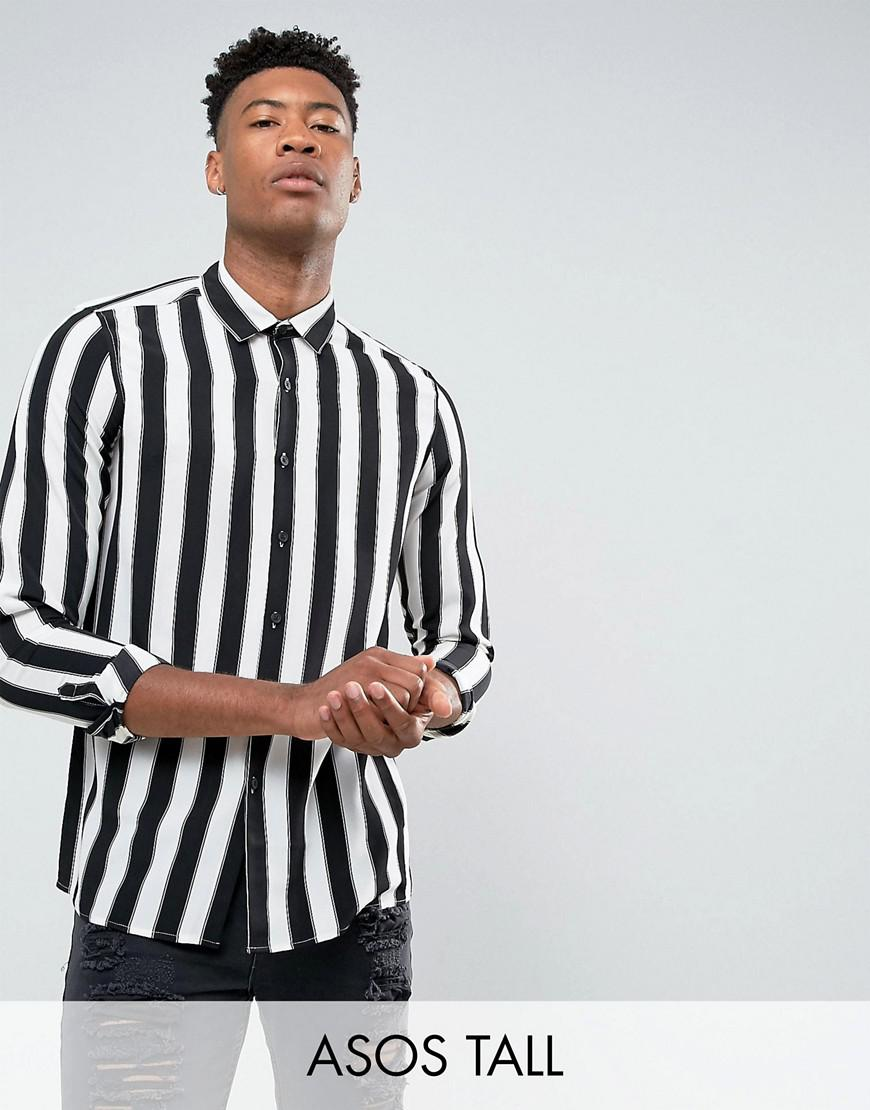teeshirt: (10, 256, 529, 971)
